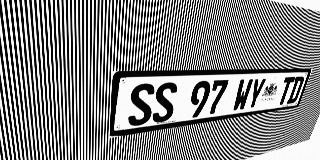7: (205, 80, 229, 116)
9: (187, 80, 212, 118)
D: (286, 76, 305, 104)
S: (127, 83, 155, 127), (151, 82, 178, 123)
T: (276, 77, 295, 105)
W: (231, 79, 254, 112)
Y: (245, 78, 267, 110)
